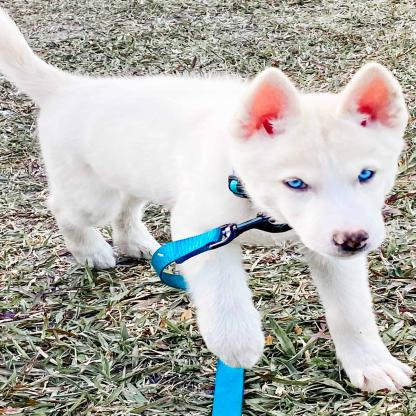husky: (1, 13, 413, 396)
